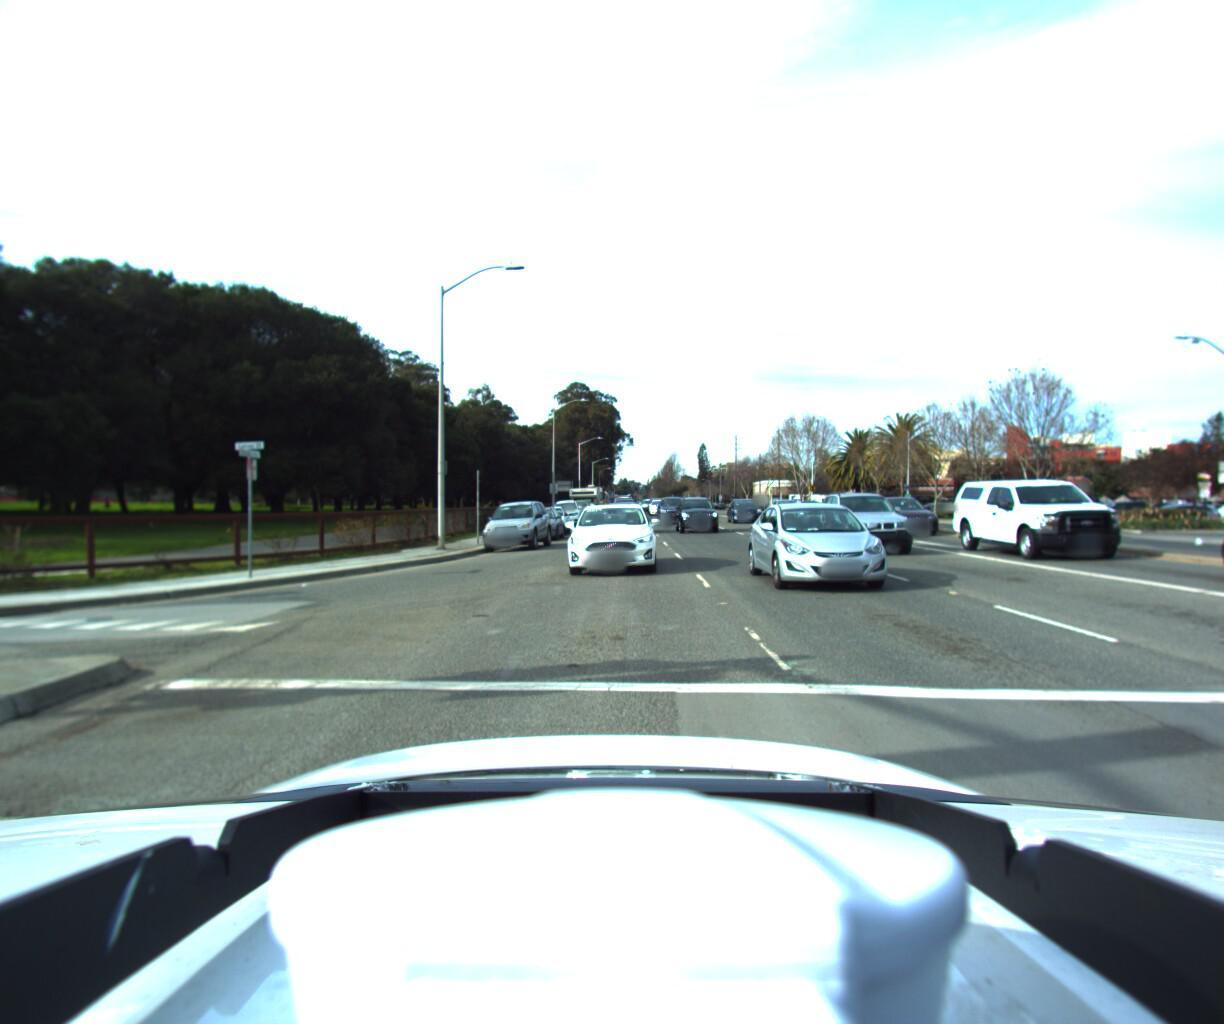car: (954, 467, 1156, 559), (745, 495, 911, 593), (823, 485, 936, 557), (563, 498, 659, 581), (473, 498, 551, 551), (864, 494, 954, 537), (508, 502, 563, 538), (674, 496, 721, 533), (524, 502, 570, 534), (545, 497, 585, 527), (726, 499, 766, 526), (655, 499, 688, 526), (644, 497, 665, 515), (611, 491, 631, 507)
other_vehicle: (562, 484, 601, 518), (573, 480, 606, 515)
